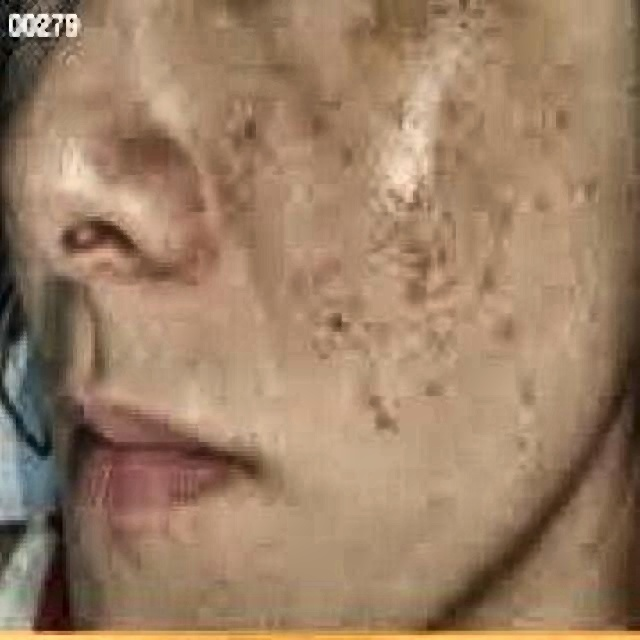comedone: (388, 233, 467, 306), (381, 163, 438, 221)
